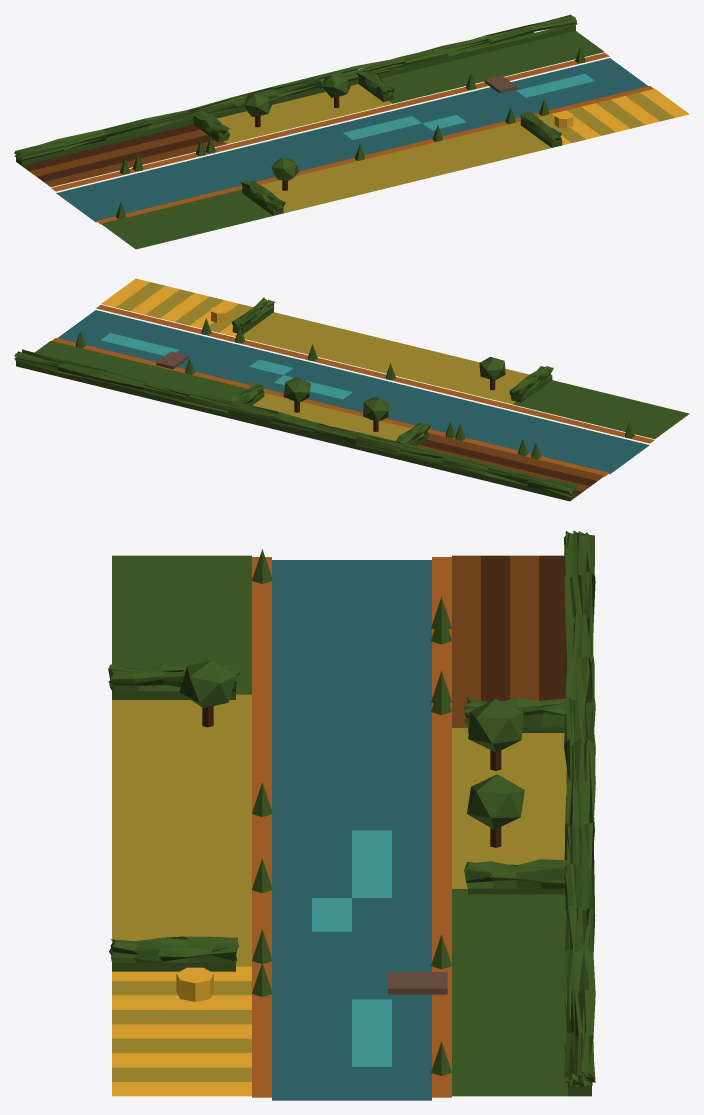
File: riverB.glb
3 views of the same model, one above another, from view 1: azimuth 30°, elevation 25°; view 2: azimuth 150°, elevation 25°; view 3: azimuth 270°, elevation 25° (orthographic). The views are drawn at different scales.
Visible parts, largest first — view 1: H109, P68, P87, P67, P85, P65, P66, P83, P84, P82, P81, H69 (+13 smaller); view 2: H109, P68, P67, P87, P66, P85, P65, P81, P82, H69, H80, P83 (+56 smaller); view 3: P68, P87, H109, P67, P85, P66, P65, P81, P82, H80, P83, P84 (+80 smaller).
Boxes of the visible parts, <box> form: H109: <box>14,14,577,165</box>; P68: <box>260,121,551,213</box>; P87: <box>381,31,604,103</box>; P67: <box>101,189,272,249</box>; P85: <box>217,84,392,143</box>; P65: <box>51,53,609,191</box>; P66: <box>96,86,653,224</box>; P83: <box>29,129,207,176</box>; P84: <box>22,124,199,171</box>; P82: <box>37,135,214,181</box>; P81: <box>44,140,226,187</box>; H69: <box>241,180,285,215</box>; H109: <box>14,349,577,501</box>; P68: <box>234,312,529,404</box>; P67: <box>512,380,689,439</box>; P87: <box>35,341,248,411</box>; P66: <box>96,305,654,443</box>; P85: <box>252,393,411,440</box>; P65: <box>52,338,609,476</box>; P81: <box>426,433,604,480</box>; P82: <box>419,439,597,486</box>; H69: <box>509,366,553,402</box>; H80: <box>231,297,275,334</box>; P83: <box>417,444,589,491</box>; P68: <box>112,694,251,966</box>; P87: <box>452,889,567,1096</box>; H109: <box>564,530,595,1096</box>; P67: <box>112,555,251,694</box>; P85: <box>452,728,566,888</box>; P66: <box>252,557,271,1097</box>; P65: <box>432,557,451,1097</box>; P81: <box>452,555,480,727</box>; P82: <box>481,555,509,701</box>; H80: <box>109,936,239,971</box>; P83: <box>510,555,538,700</box>; P84: <box>539,555,566,700</box>.
Bounding box in the file's own units: 16.1 × 0.976 × 6.1.
